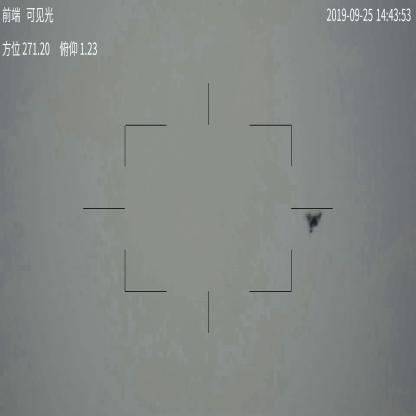uav: (304, 209, 324, 236)
